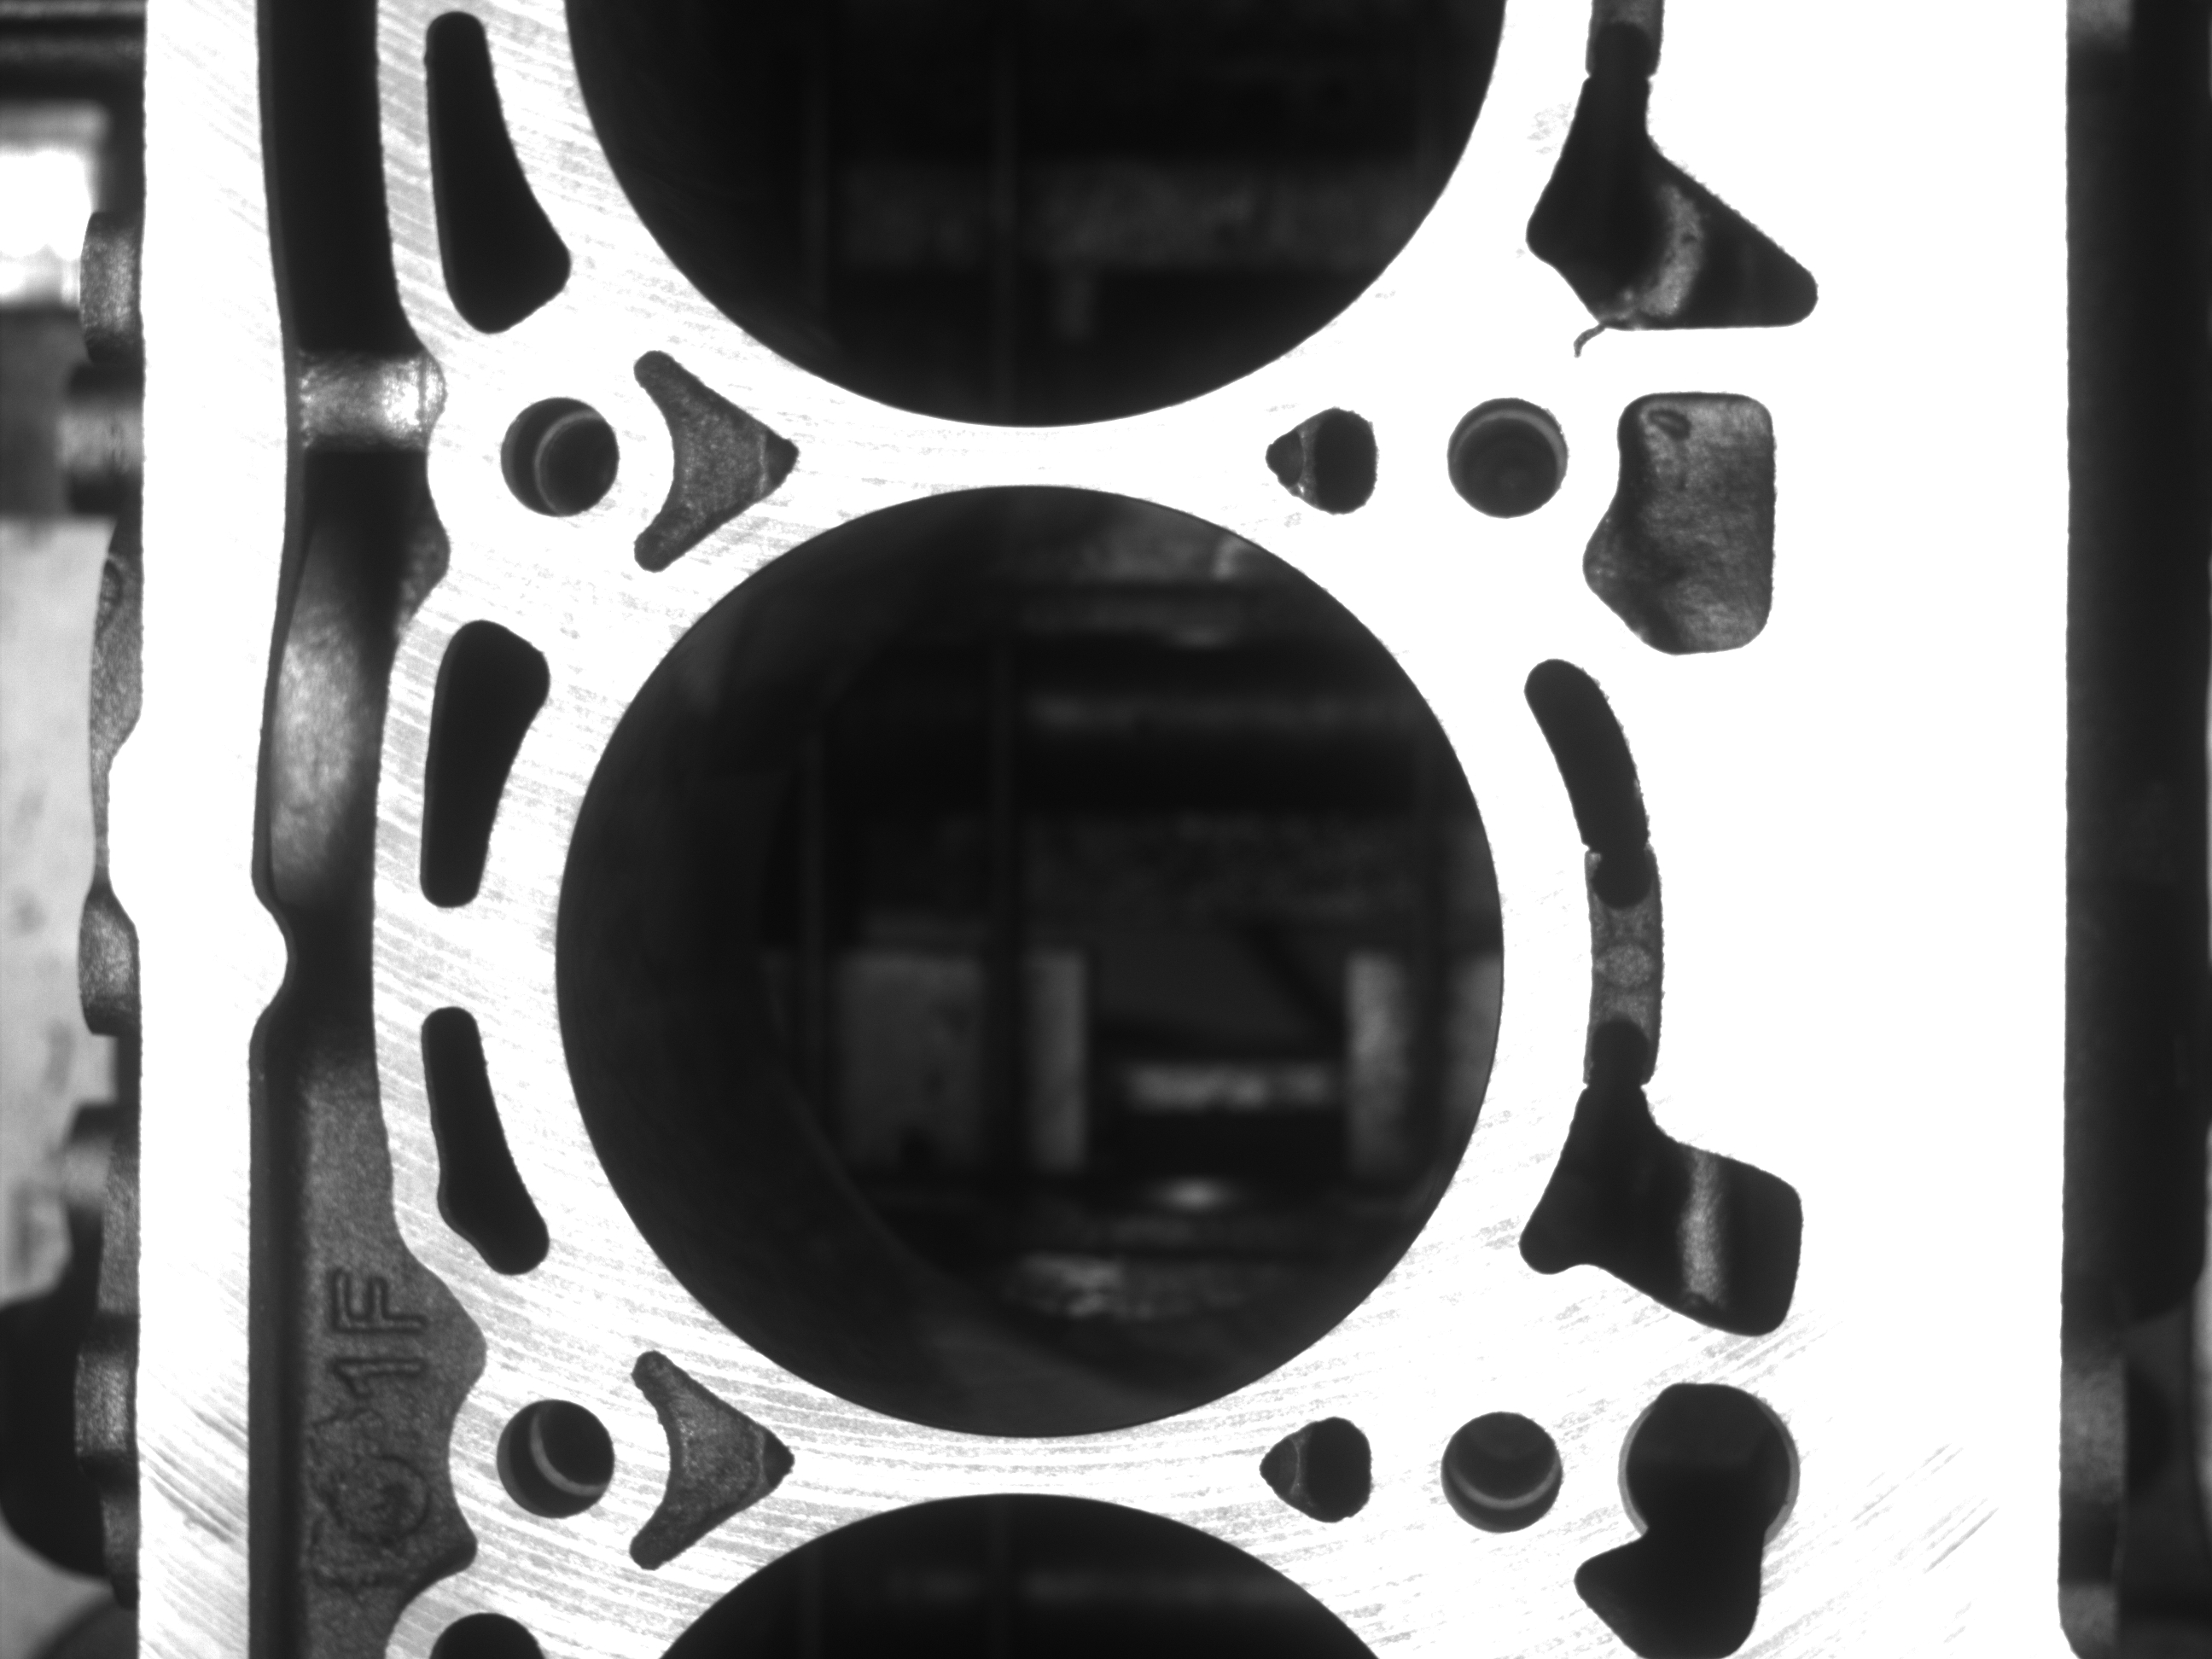shrinkage: (1501, 92, 1844, 364)
